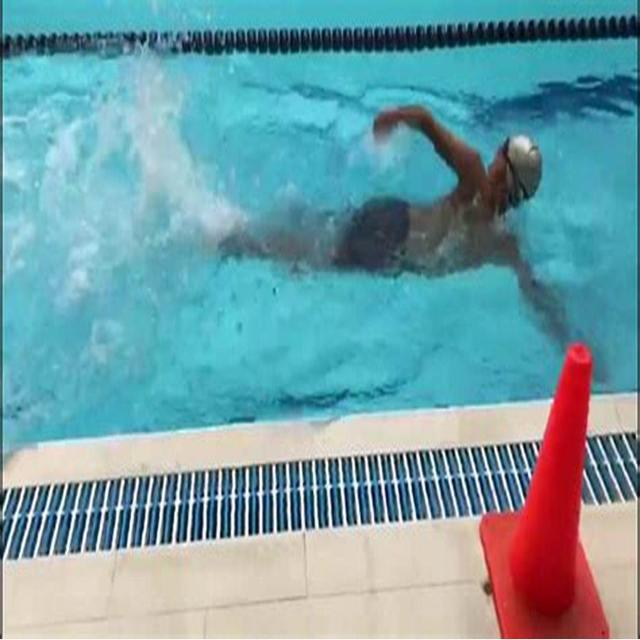swimming: (177, 92, 627, 329)
